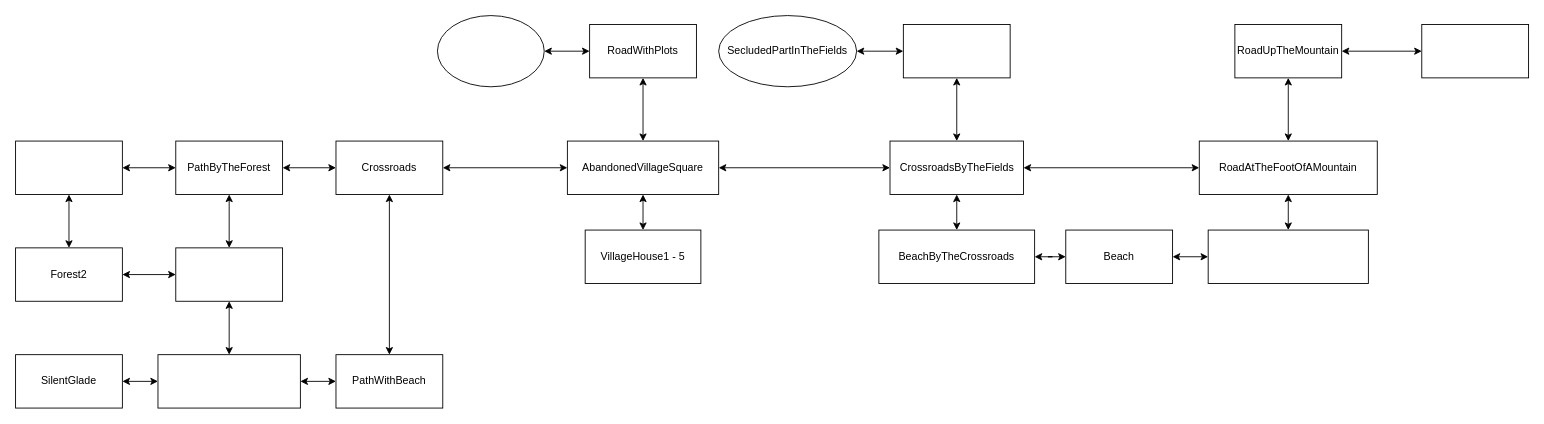
This 1544x424 diagram has some shape labels left out. Here are the shapes that lost their labels. From the top down, the box of each, then its label:
(437, 15, 544, 87): GroupPlot
(902, 24, 1010, 78): Fields
(1421, 24, 1529, 78): MineEntrance
(15, 140, 122, 194): LumberjacksRetreat
(175, 247, 283, 301): Forest1
(1207, 229, 1368, 283): BeachAtTheFootOfAMountan
(157, 354, 300, 408): SmallPathBetweenTrees
